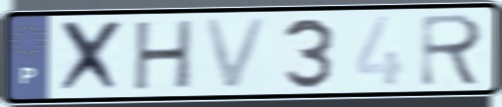3: (278, 14, 337, 91)
4: (352, 13, 409, 89)
H: (130, 17, 198, 94)
R: (417, 11, 487, 89)
V: (199, 14, 274, 93)
X: (54, 17, 127, 96)
